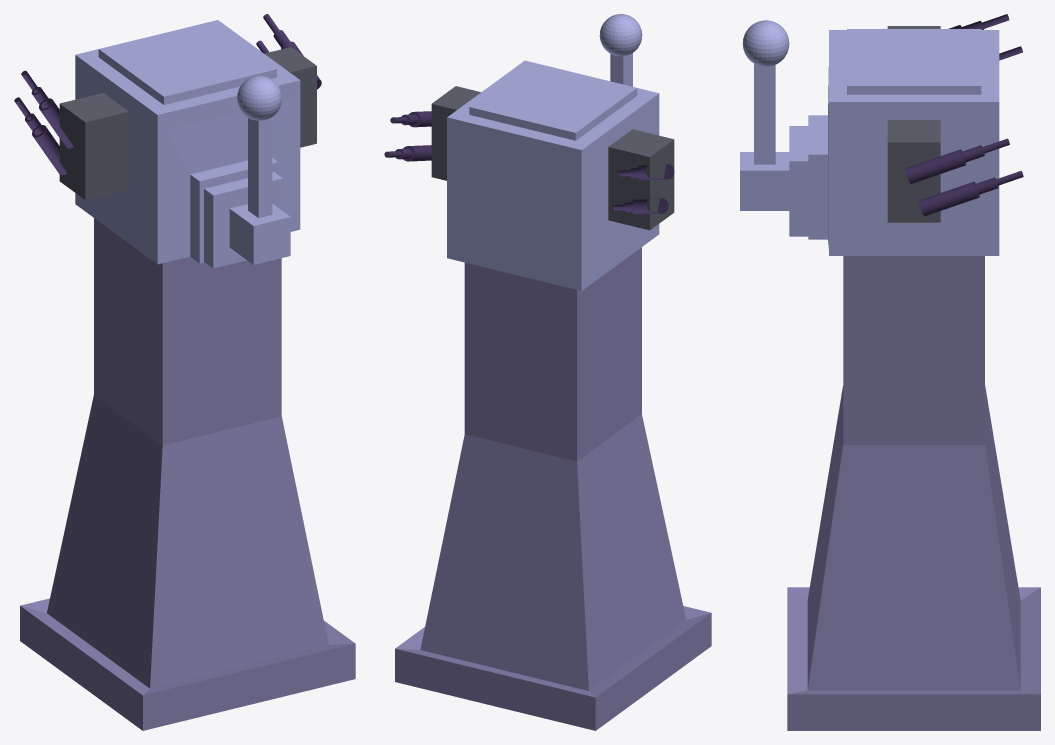
Rendered from aaaa.fbx.
3 renders of one model, left to right at view 1: azimuth 30°, elevation 25°; view 2: azimuth 150°, elevation 25°; view 3: azimuth 270°, elevation 25°, orthographic. The views are drawn at different scales.
Visible parts, largest first — view 1: Stub, Kupola, topni_drzac, topovi; view 2: Stub, Kupola, topni_drzac, topovi; view 3: Stub, Kupola, topni_drzac, topovi.
Boxes of the visible parts, x1,y1,x2,y2 form: Stub: (20, 218, 355, 730); Kupola: (75, 20, 300, 268); topni_drzac: (59, 47, 316, 199); topovi: (14, 14, 321, 174); Stub: (395, 247, 711, 730); Kupola: (447, 14, 659, 290); topni_drzac: (431, 86, 674, 230); topovi: (384, 111, 674, 214); Stub: (787, 256, 1040, 730); Kupola: (740, 20, 999, 255); topni_drzac: (887, 26, 940, 222); topovi: (905, 14, 1023, 216).
Size of the model in its own units: 241 by 570 by 237.
